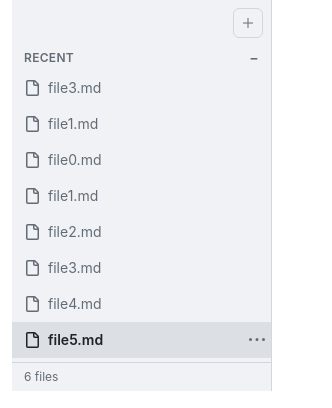
Test: Sidebar › recently viewed section › collapses and expands
What coordinates should you click on to do the following:
click the button "Recent −"
I would click on:
 (142, 56)
Its box is [12,42,271,70].
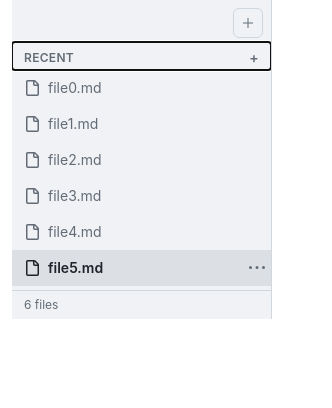
Check: the text "file3.md" is shown once, box [48,187,101,204]
What coordinates should you click on to do the following:
click the button "Recent +"
I would click on:
 (142, 56)
Its box is [12,42,271,70].
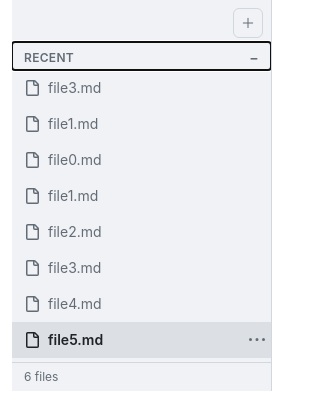
Check: the text "file3.md" is shown 2 times, box [48,79,101,96]; [48,259,101,276]
